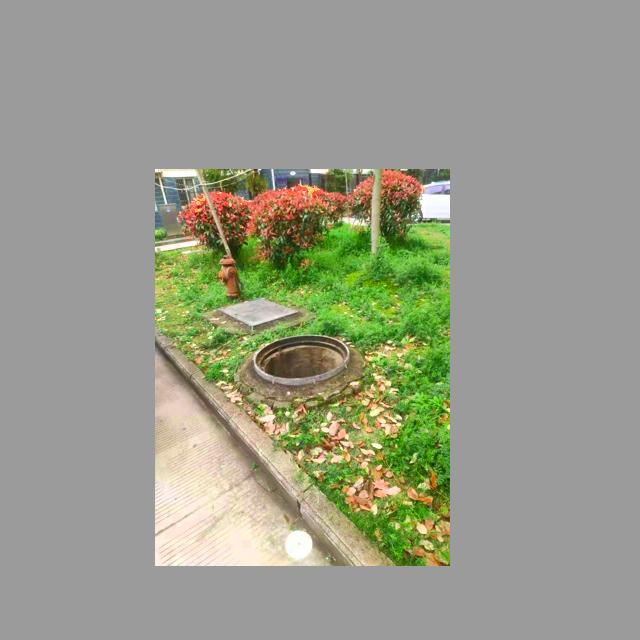good: (216, 296, 302, 331)
lose: (251, 333, 350, 385)
